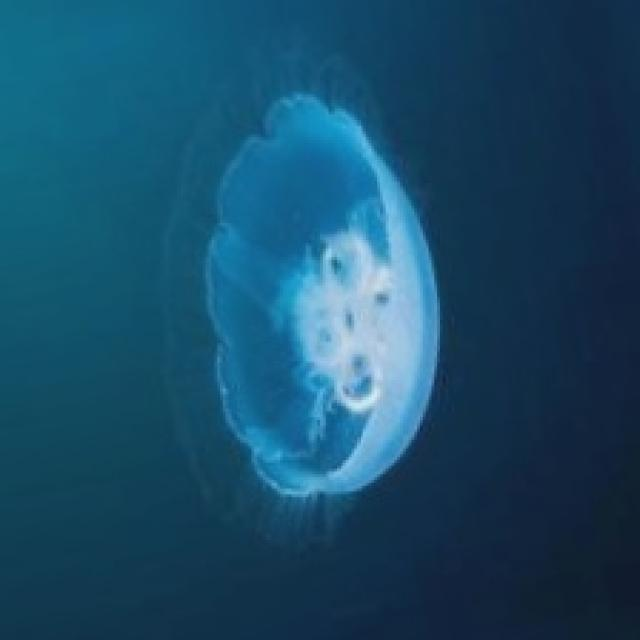Moon-jellyfish: (160, 51, 443, 548)
